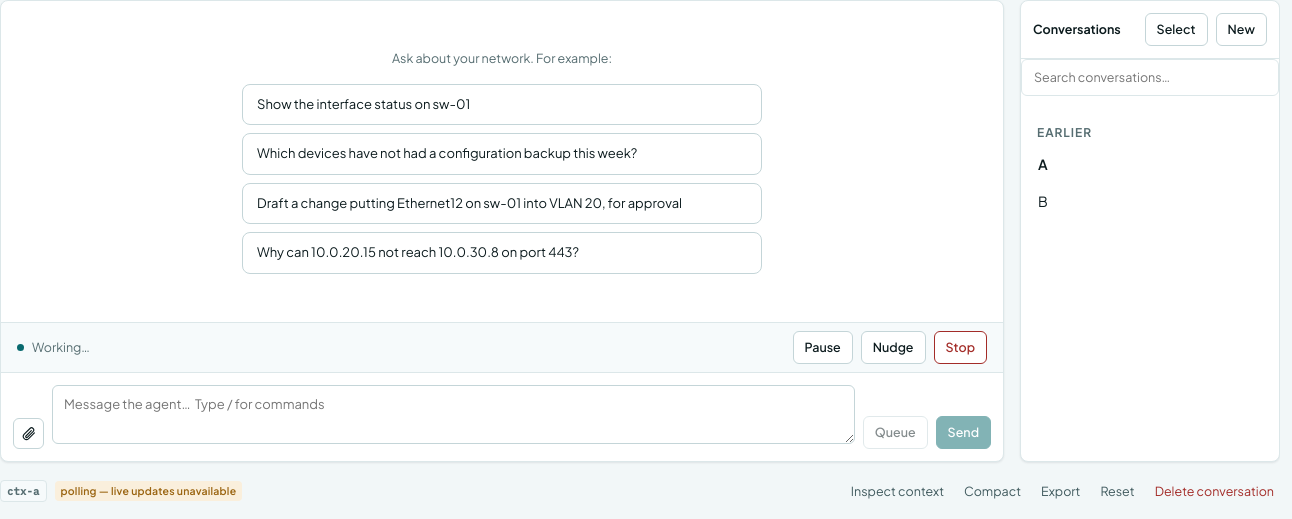
Scenario: ChatScreen empty states › offers example prompts that go into the composer rather than being sent
The image size is (1292, 519).
Click the button "Show the interface status on sw-01": (364, 104) x1=242 y1=84 x2=762 y2=125
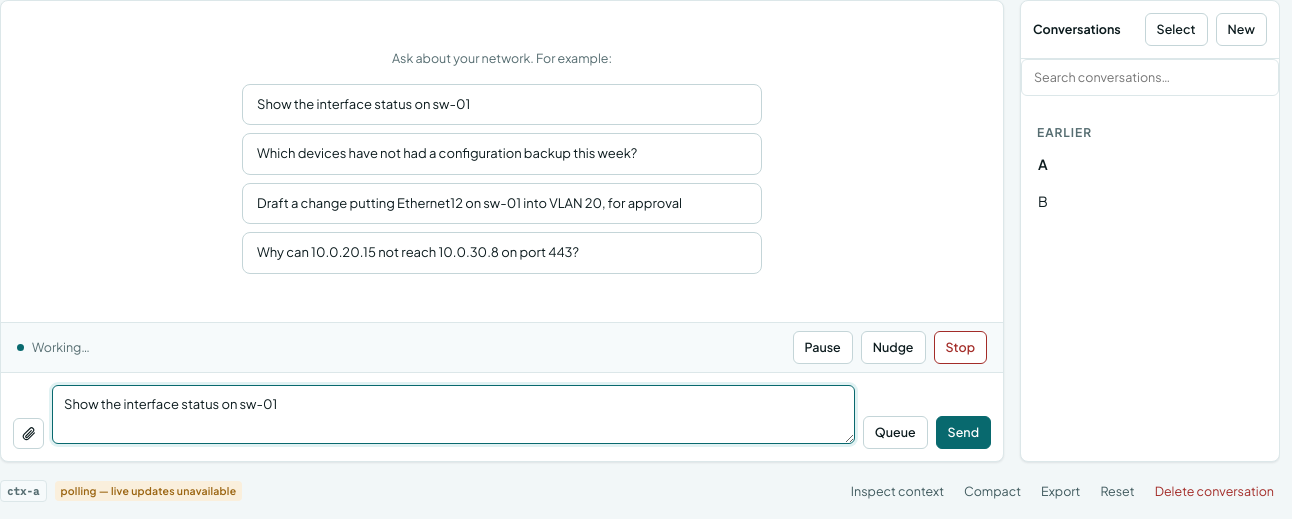
Now the text box named "Message" holds "Show the interface status on sw-01", box x1=52 y1=384 x2=855 y2=444
